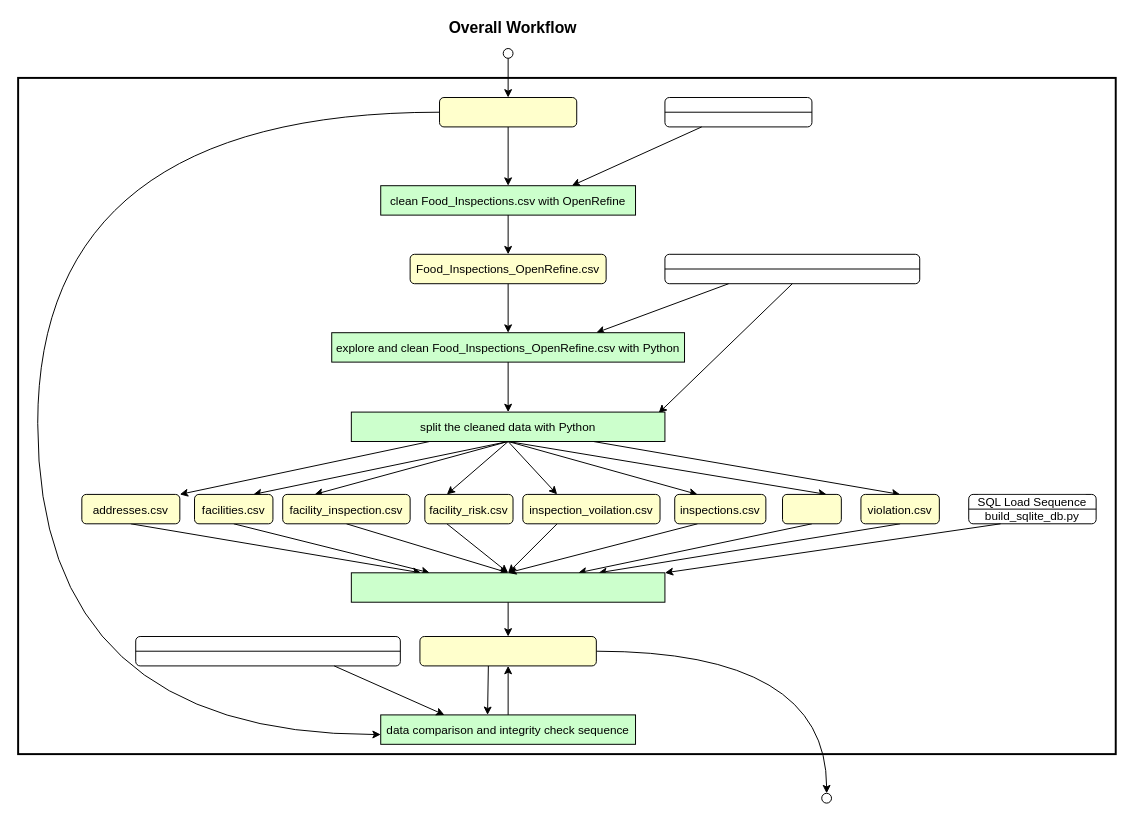
Image size: 1133x820. Some labels were removed from this diagram. The centre of each missing label's shape, as x and y in pixels:
"data comparison and integrity check sequence data_integrity_check.py" belongs at [267,651].
"data exploration, cleaning and splitting sequence data_cleaning_step_3b.ipynb" belongs at [792,268].
"Food_Inspections.csv" belongs at [508,112].
"food_inspections.db Database" belongs at [507,651].
"load tables to Database" belongs at [507,587].
"OpenRefine sequence openrefine.json" belongs at [738,112].
"risk.csv" belongs at [811,508].
